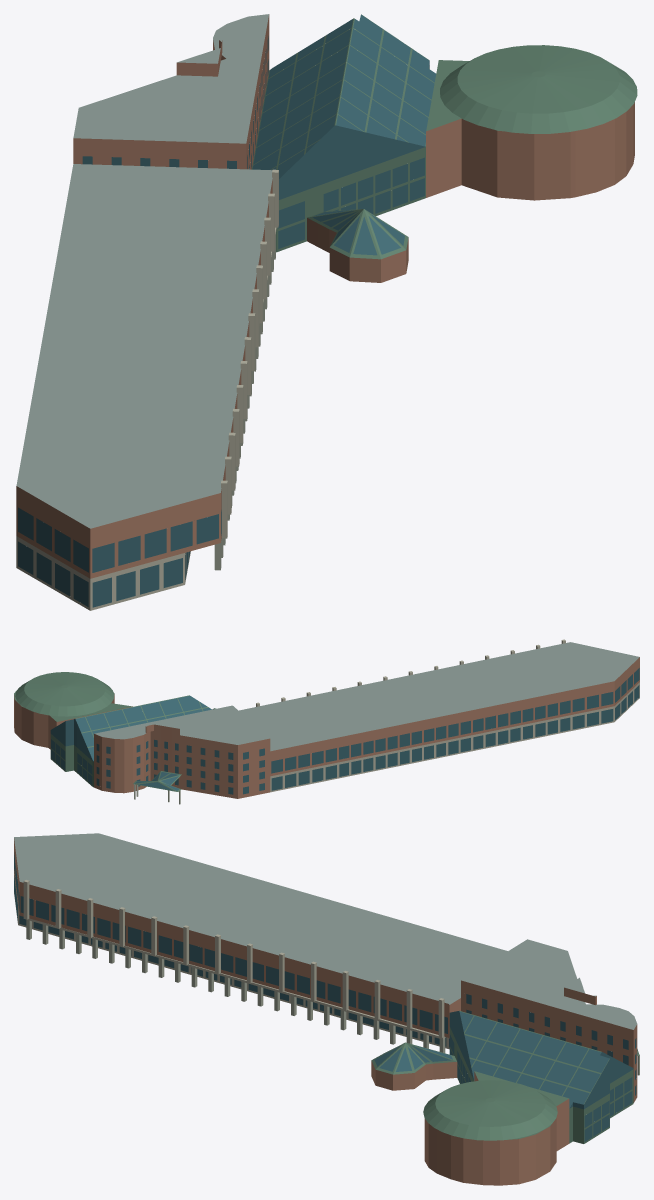
The model's file is markham-civic-centre-near.glb.
3 renders of one model, top to bottom at view 1: azimuth 30°, elevation 25°; view 2: azimuth 150°, elevation 25°; view 3: azimuth 270°, elevation 25°, orthographic. The views are drawn at different scales.
Parts seen in each view (by area): view 1: markham-civic-centre-0-roof, markham-civic-centre-0-glass, markham-civic-centre-0-cladding, markham-civic-centre-0-copper, markham-civic-centre-0-stone, markham-civic-centre-0-column; view 2: markham-civic-centre-0-roof, markham-civic-centre-0-cladding, markham-civic-centre-0-glass, markham-civic-centre-0-copper, markham-civic-centre-0-stone; view 3: markham-civic-centre-0-roof, markham-civic-centre-0-cladding, markham-civic-centre-0-glass, markham-civic-centre-0-copper, markham-civic-centre-0-stone, markham-civic-centre-0-column.
Boxes of the visible parts, <box> form: markham-civic-centre-0-roof: <box>16,14,272,528</box>; markham-civic-centre-0-glass: <box>18,14,436,607</box>; markham-civic-centre-0-cladding: <box>16,14,634,578</box>; markham-civic-centre-0-copper: <box>251,14,637,259</box>; markham-civic-centre-0-stone: <box>16,169,278,610</box>; markham-civic-centre-0-column: <box>214,234,275,570</box>; markham-civic-centre-0-roof: <box>94,642,639,751</box>; markham-civic-centre-0-cladding: <box>14,657,639,798</box>; markham-civic-centre-0-glass: <box>50,668,639,794</box>; markham-civic-centre-0-copper: <box>14,672,215,791</box>; markham-civic-centre-0-stone: <box>256,639,639,792</box>; markham-civic-centre-0-roof: <box>14,833,637,1029</box>; markham-civic-centre-0-cladding: <box>14,838,637,1185</box>; markham-civic-centre-0-glass: <box>14,852,637,1141</box>; markham-civic-centre-0-copper: <box>371,1011,639,1143</box>; markham-civic-centre-0-stone: <box>14,872,449,1049</box>; markham-civic-centre-0-column: <box>26,920,639,1075</box>.
Size of the model in its own units: 146 by 18.8 by 130.
